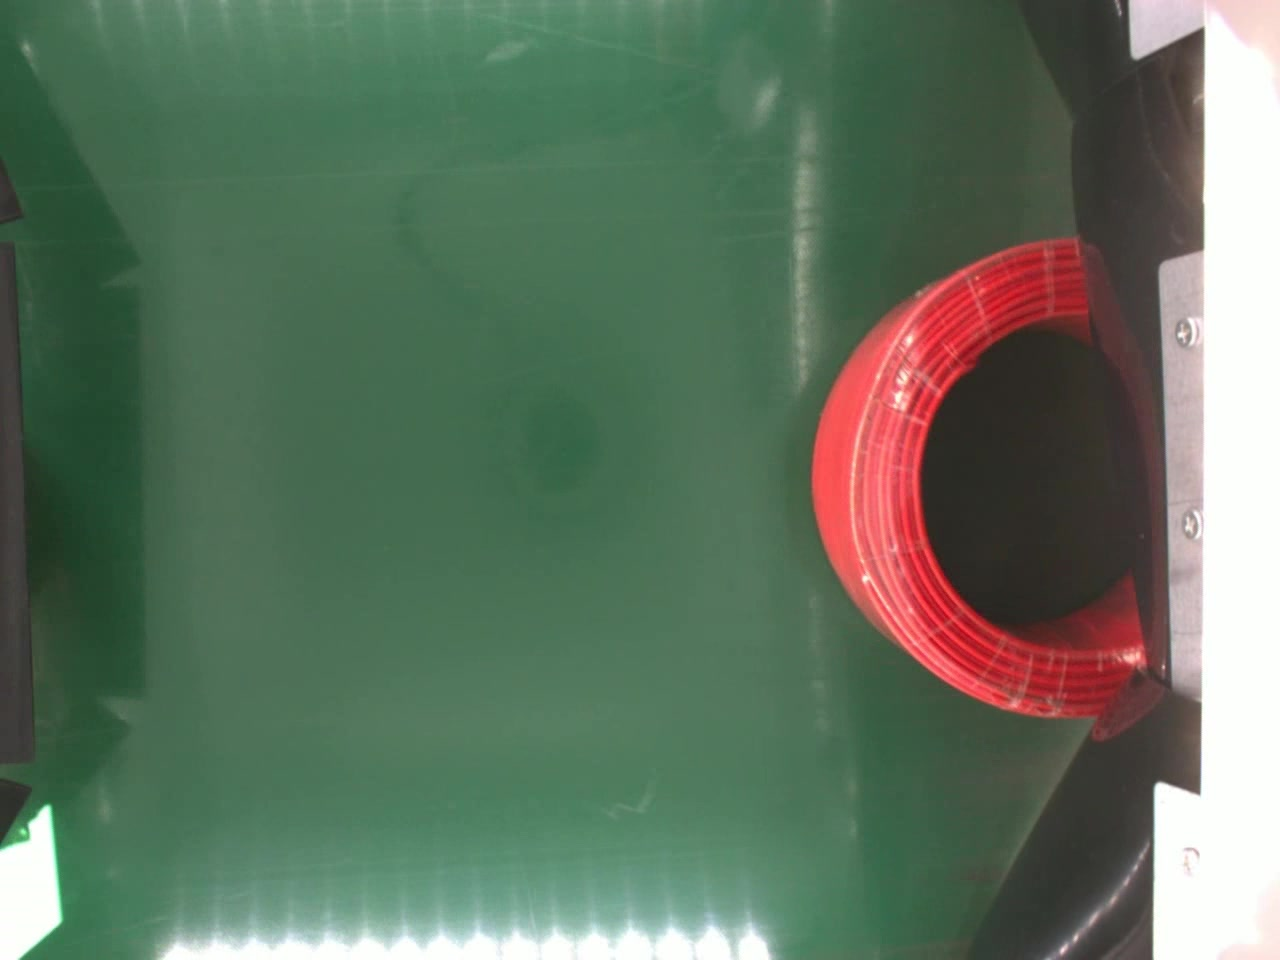red: (807, 232, 1158, 722)
